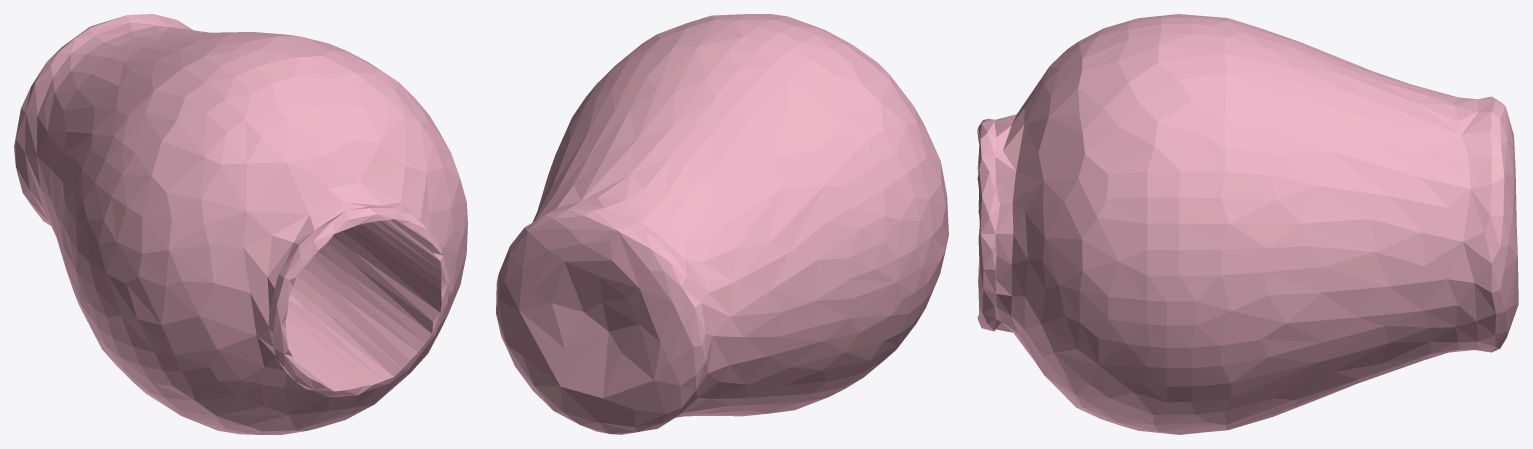
File: model_align.obj
The picture shows the model from 3 angles, left to right: view 1: azimuth 30°, elevation 25°; view 2: azimuth 150°, elevation 25°; view 3: azimuth 270°, elevation 25°; orthographic projection. The views are drawn at different scales.
Size of the model in its own units: 0.0892 by 0.0893 by 0.1148.
